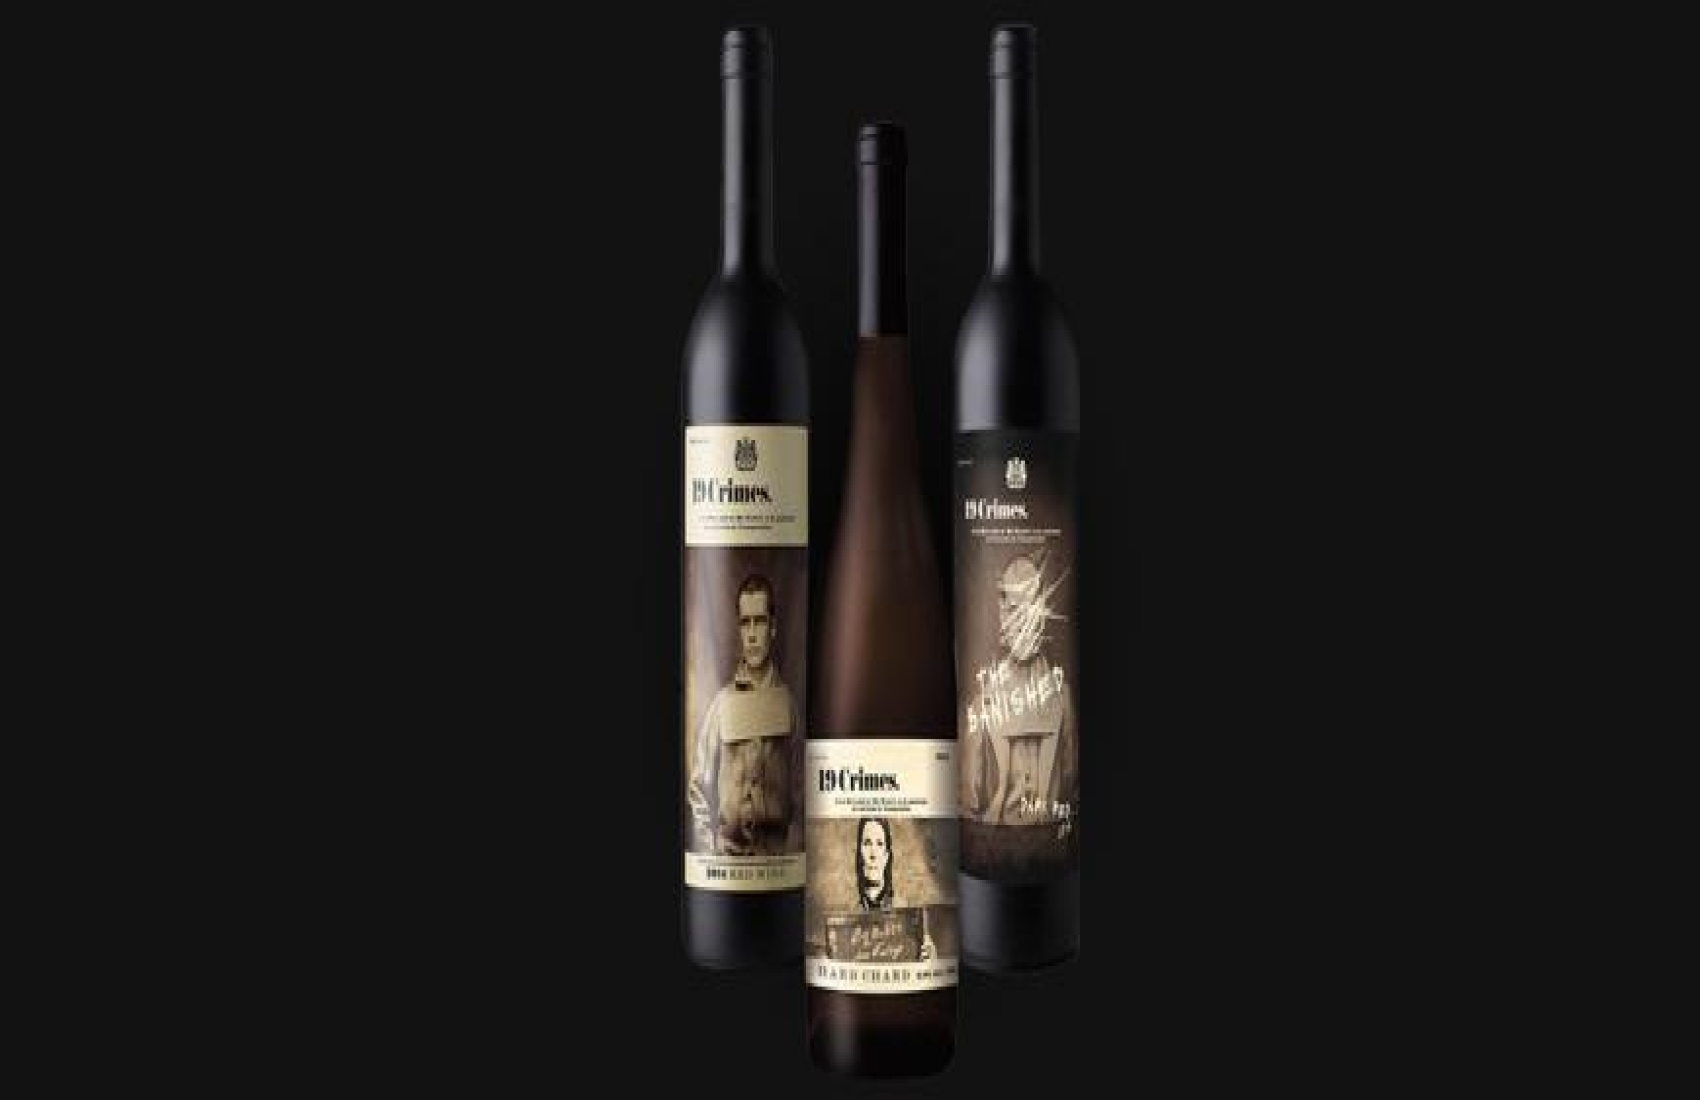wine: (802, 137, 957, 1067), (678, 56, 795, 953), (960, 67, 1078, 964)
